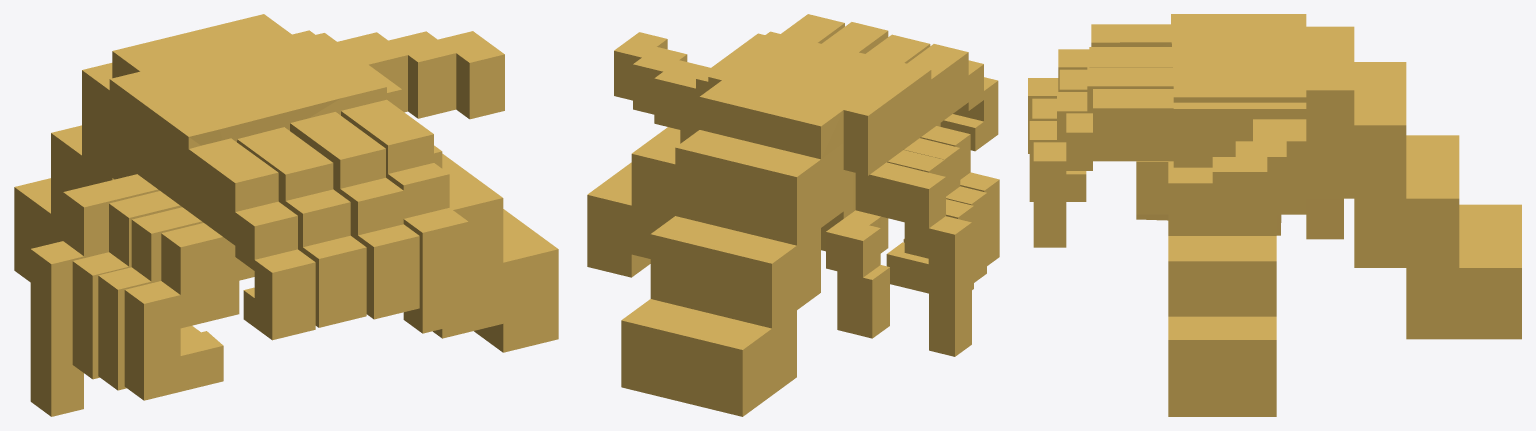
The model's file is 강남스타일 동상.fbx.
3 renders of one model, left to right at view 1: azimuth 30°, elevation 25°; view 2: azimuth 150°, elevation 25°; view 3: azimuth 270°, elevation 25°, orthographic. The views are drawn at different scales.
Visible parts, largest first — view 1: Box002; view 2: Box002; view 3: Box002.
Part boxes in pixels (x1,y1,x2,y2): Box002: (14, 14, 558, 416); Box002: (587, 14, 999, 416); Box002: (1028, 14, 1521, 416).
Size of the model in its own units: 43.81 by 26.38 by 47.37.
1 material, 1 textured.
